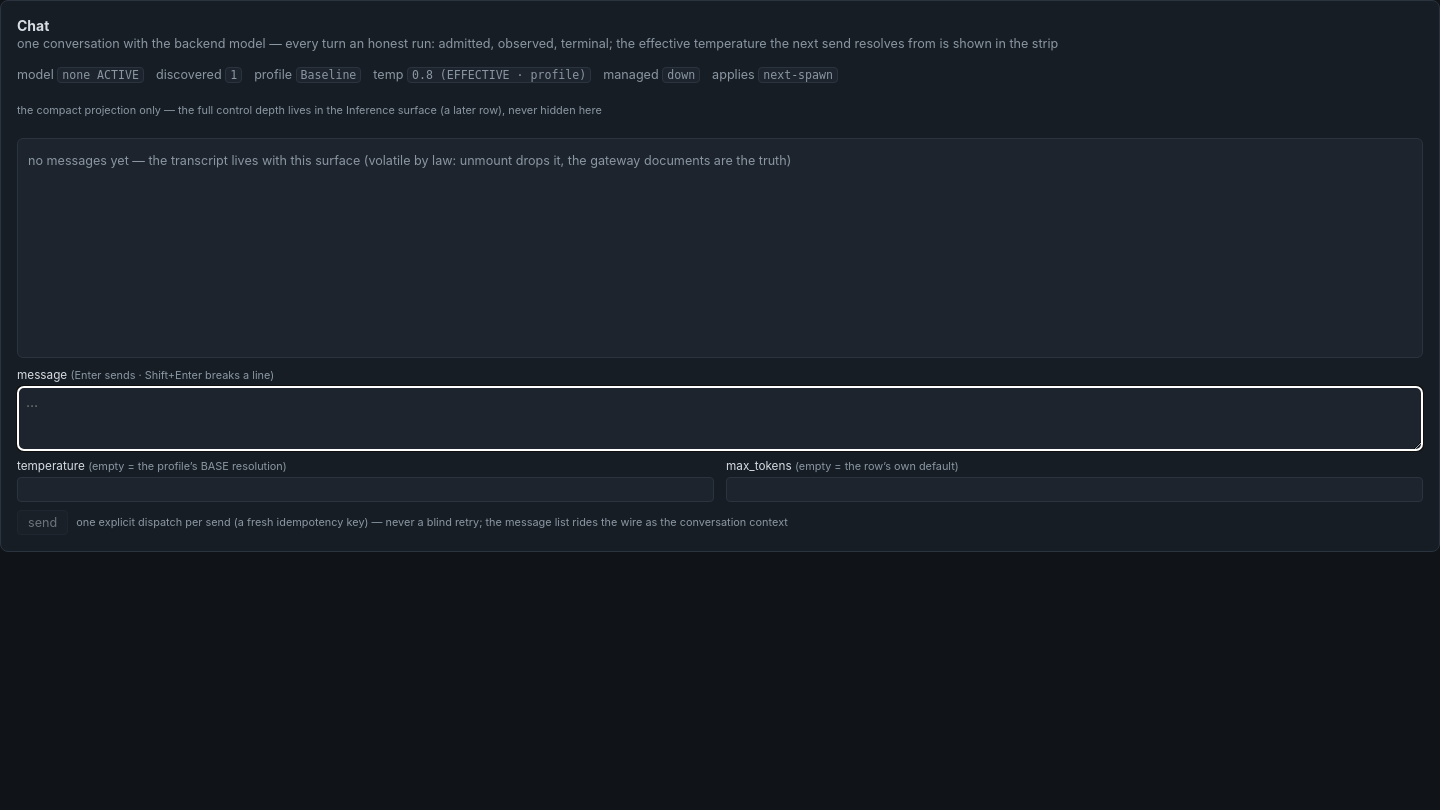
the Chat surface (Phase 3, row 4 — the conversation world) › the honest closure to FAILED: one send, one admission, one observation — the diagnostics verbatim, then the loop is DEAD
Expected: the element with test id "chat-context" shows "Baseline", left=301, top=68, right=356, bottom=82
Type "What is the tavern's mood tonight?" into the text box with test id "chat-input" at (720, 418), box left=17, top=386, right=1423, bottom=451
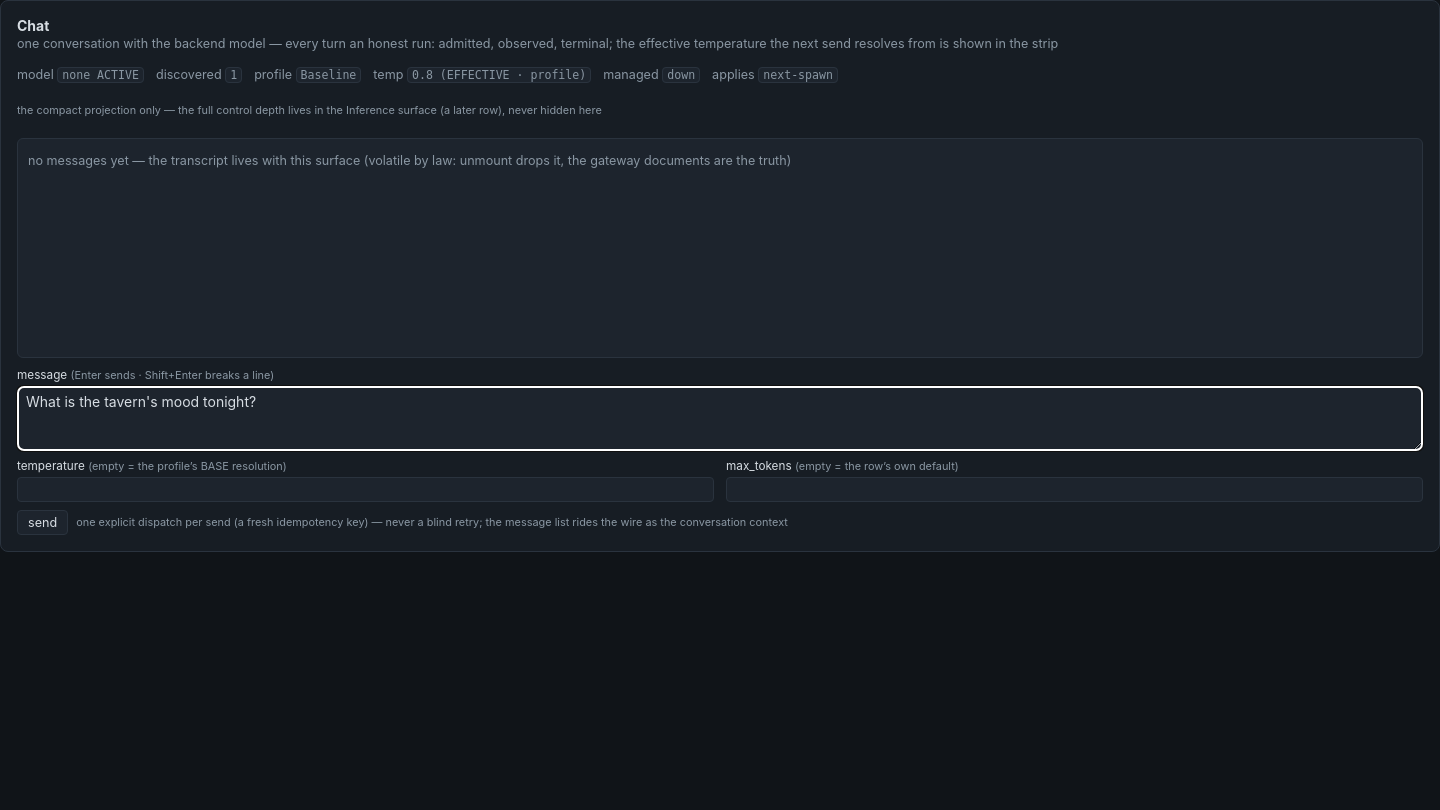
Click the button "send" at (43, 522), box left=17, top=510, right=68, bottom=535
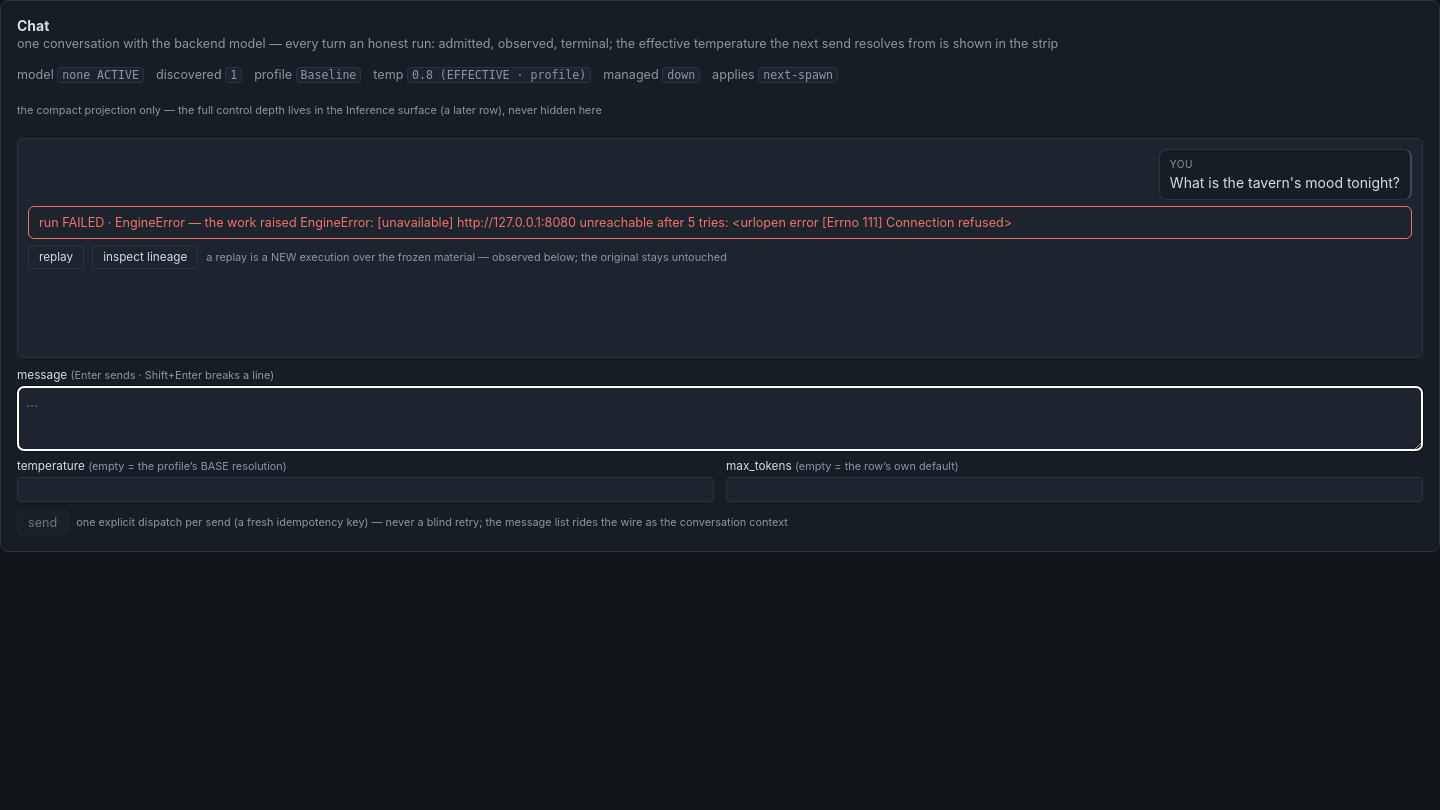
Expected: the message with test id "chat-failed-1" shows "FAILED", left=39, top=215, right=1012, bottom=230
Expected: the message with test id "chat-failed-1" shows "EngineError", left=39, top=215, right=1012, bottom=230
Expected: the message with test id "chat-failed-1" shows "unavailable", left=39, top=215, right=1012, bottom=230
Type "next" into the text box with test id "chat-input" at (720, 418), box left=17, top=386, right=1423, bottom=451
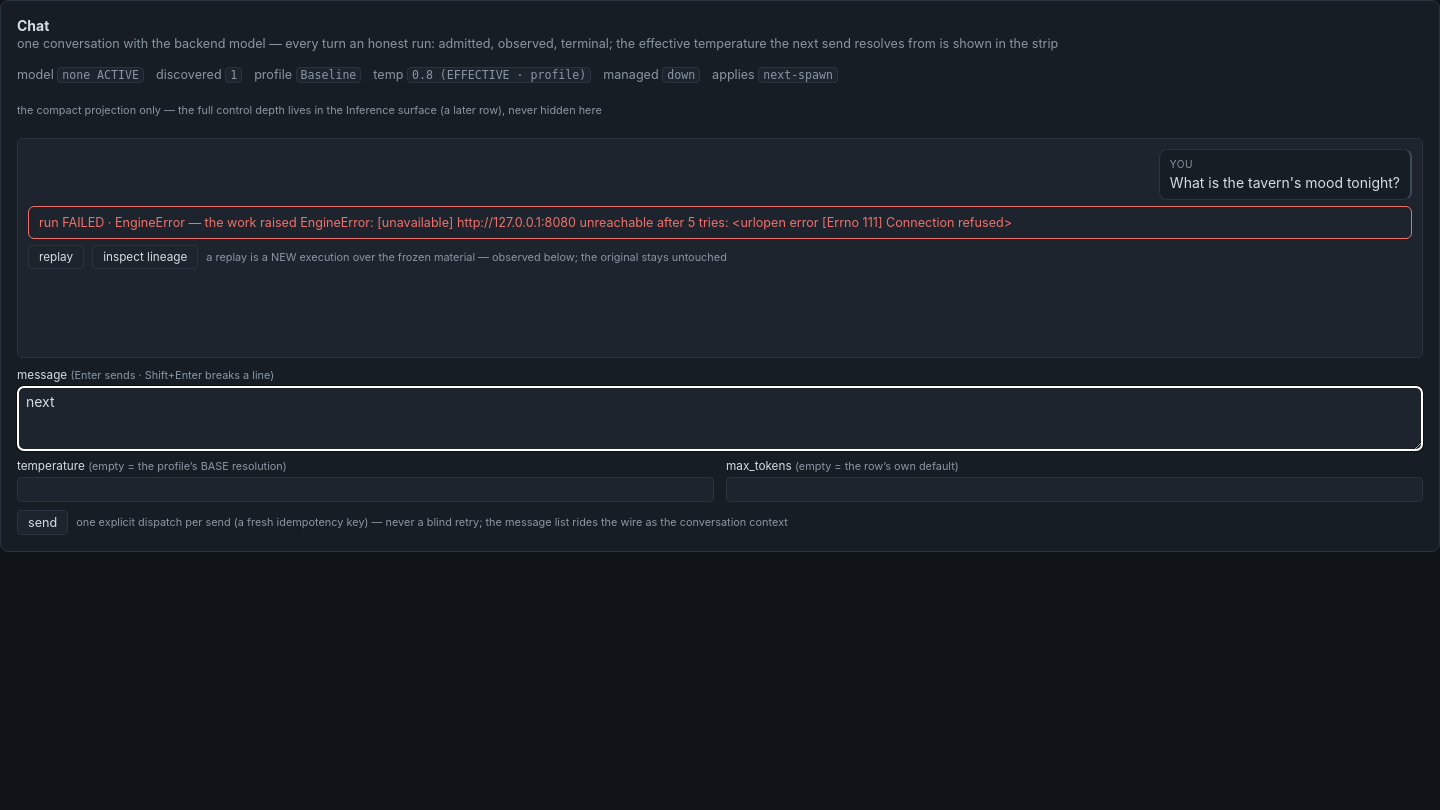
Expected: the button "send" is enabled, left=17, top=510, right=68, bottom=535
